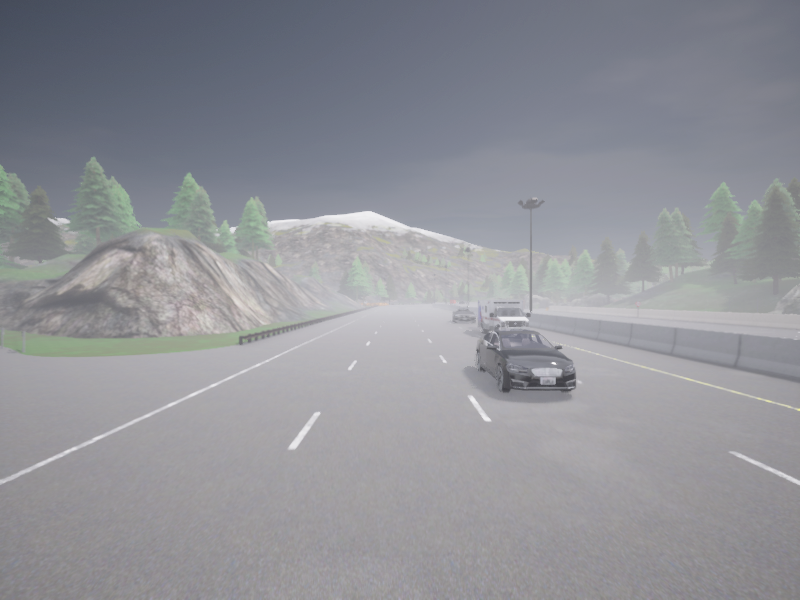vehicle: (475, 329, 575, 392), (477, 300, 530, 333), (453, 307, 474, 323), (450, 300, 456, 304), (460, 301, 466, 304)
